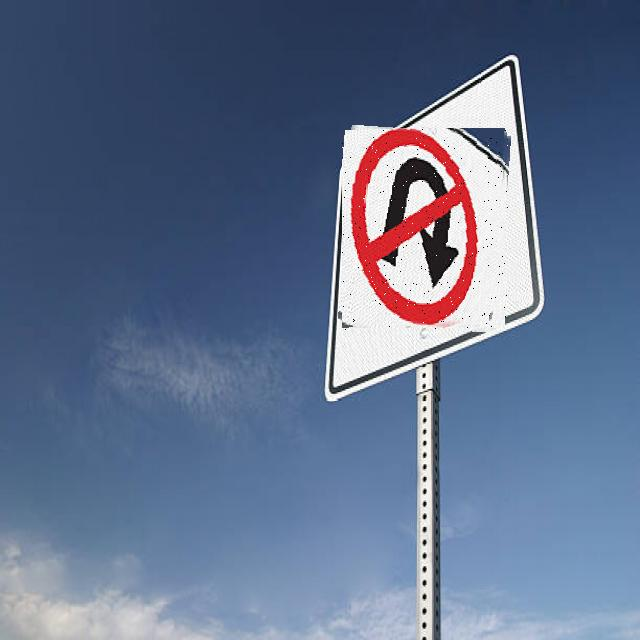no u turn: (342, 128, 508, 330)
